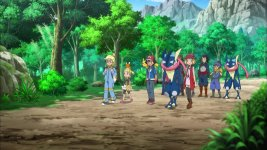greninja: (159, 47, 184, 111), (223, 53, 248, 102)
